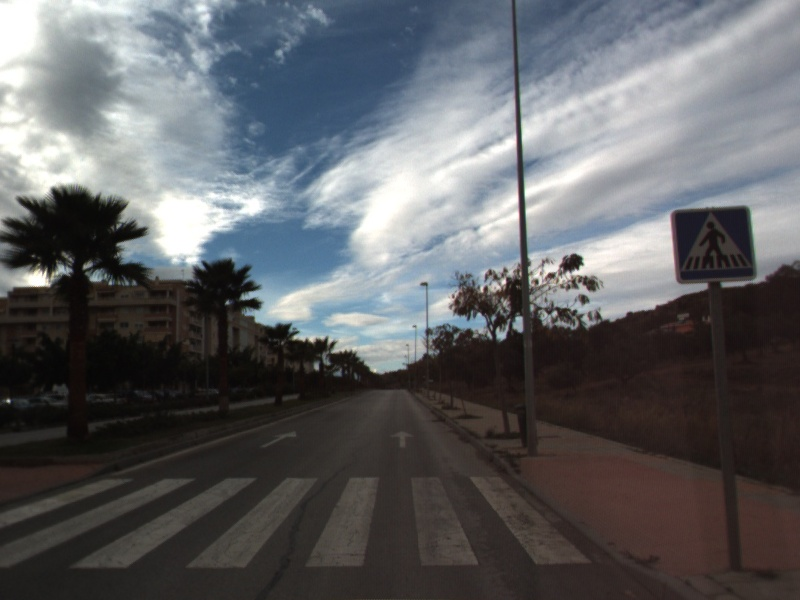STRAIGHT: (258, 429, 298, 450), (389, 429, 416, 450)
